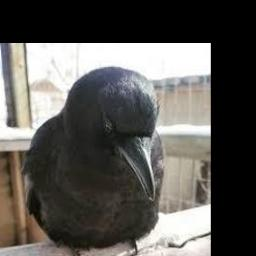Crow: (21, 66, 165, 256)
